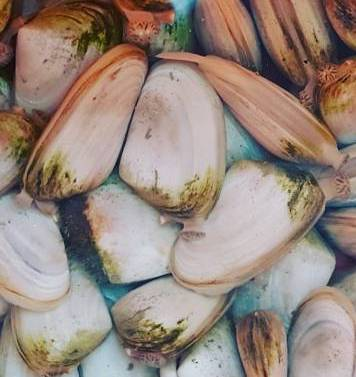tuatua: (169, 153, 331, 300), (18, 42, 150, 204), (118, 58, 228, 227), (196, 51, 347, 174), (11, 2, 123, 116), (106, 274, 241, 352)
